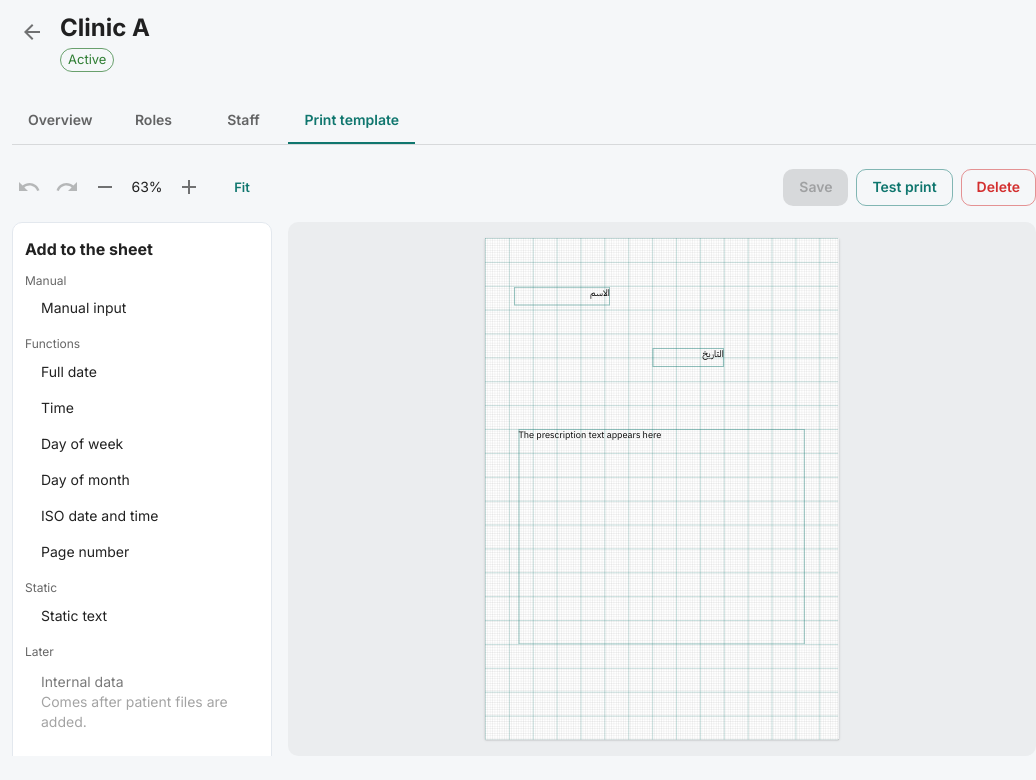
Test: print template undo: one run of nudges @area:admin › two arrows in a row, then one undo: back to the start @TPL-451
Click the button "الاسم".
click(562, 296)  # box x1=515 y1=286 x2=610 y2=305
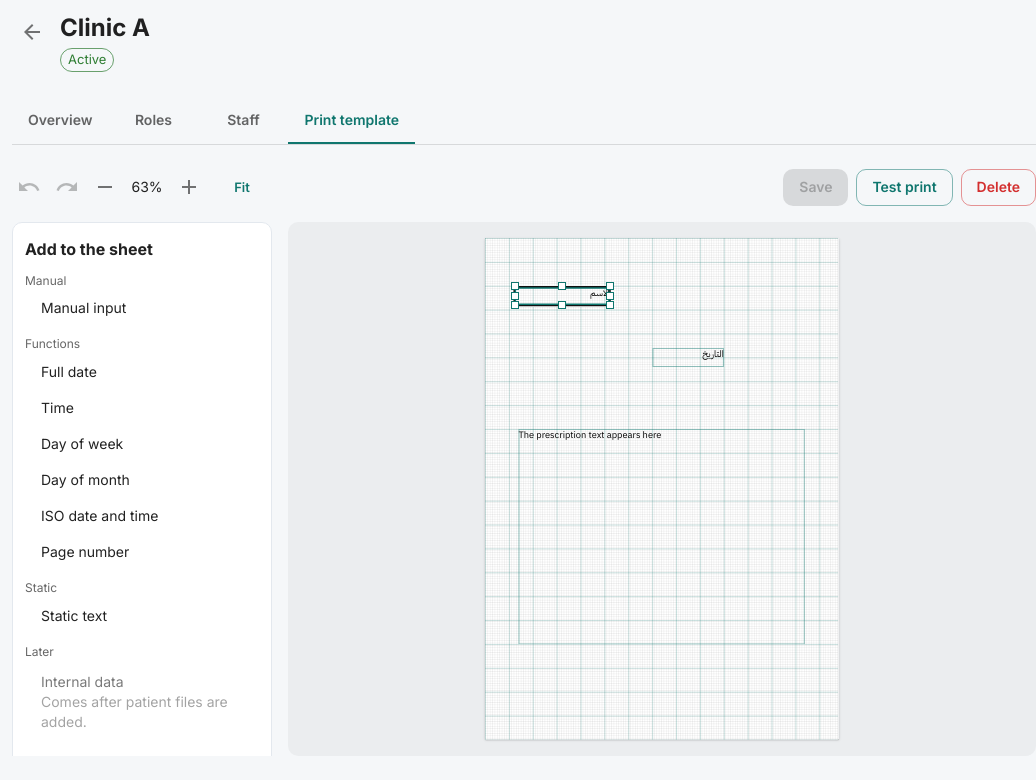
Press ArrowRight in the button "الاسم", box x1=515 y1=286 x2=610 y2=305
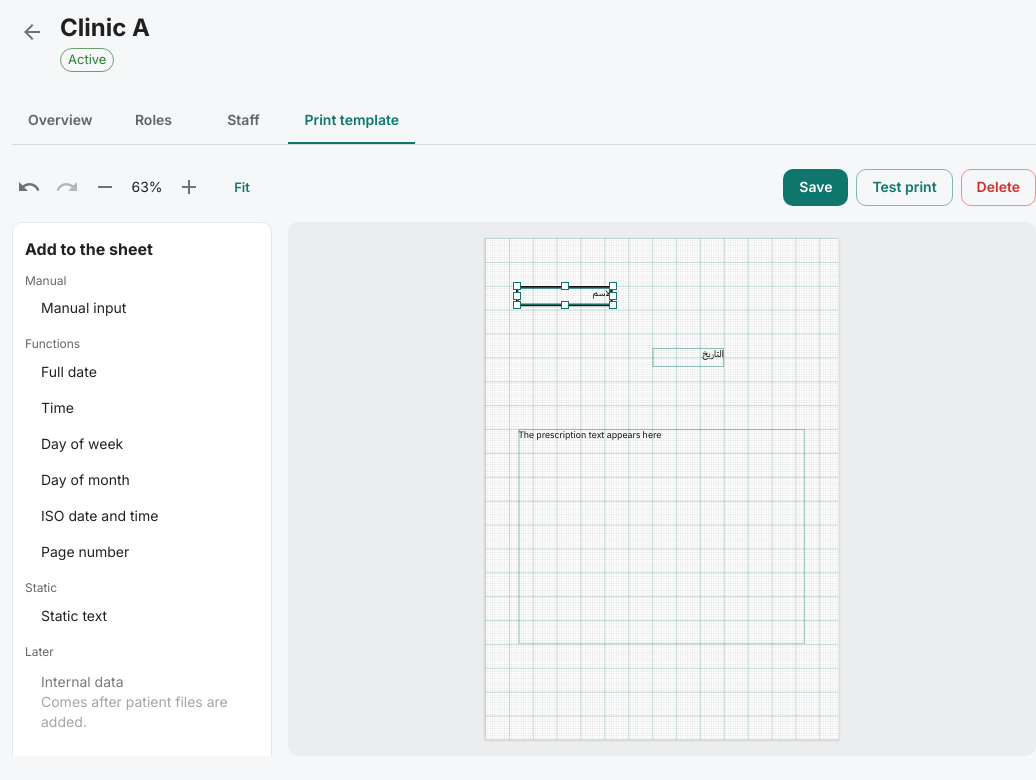
Press ArrowRight in the button "الاسم", box x1=517 y1=286 x2=612 y2=305
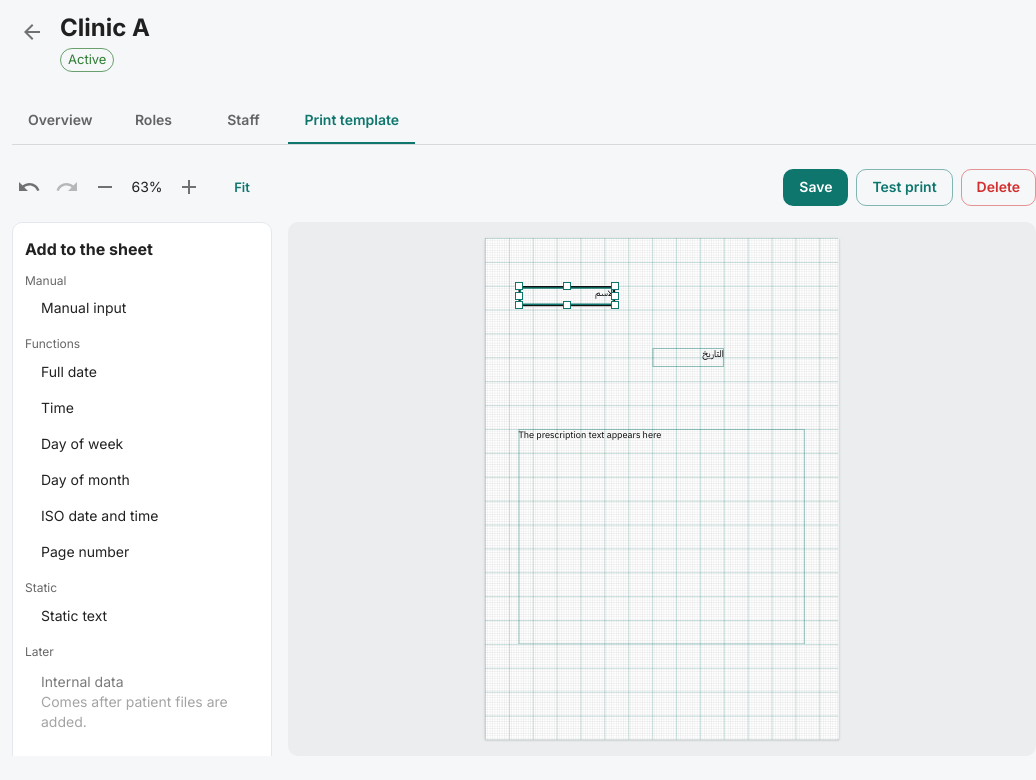
Click the button named "Undo".
click(29, 187)  # box x1=12 y1=170 x2=46 y2=204
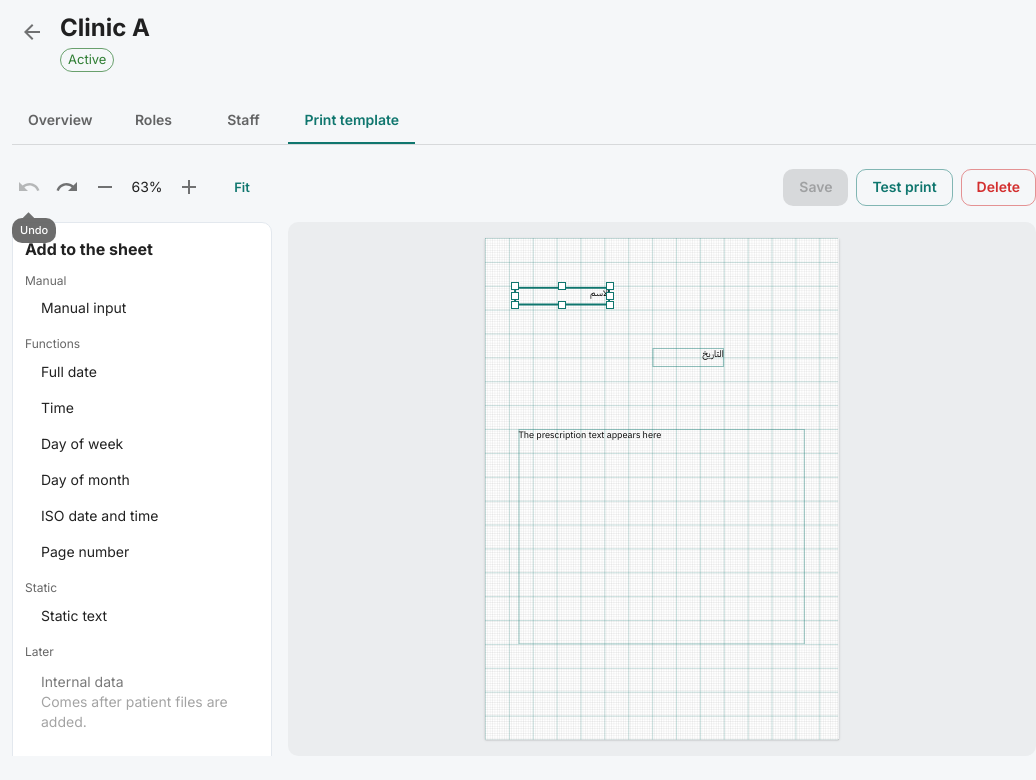
Result: the button named "Undo" is disabled at x1=12 y1=170 x2=46 y2=204
